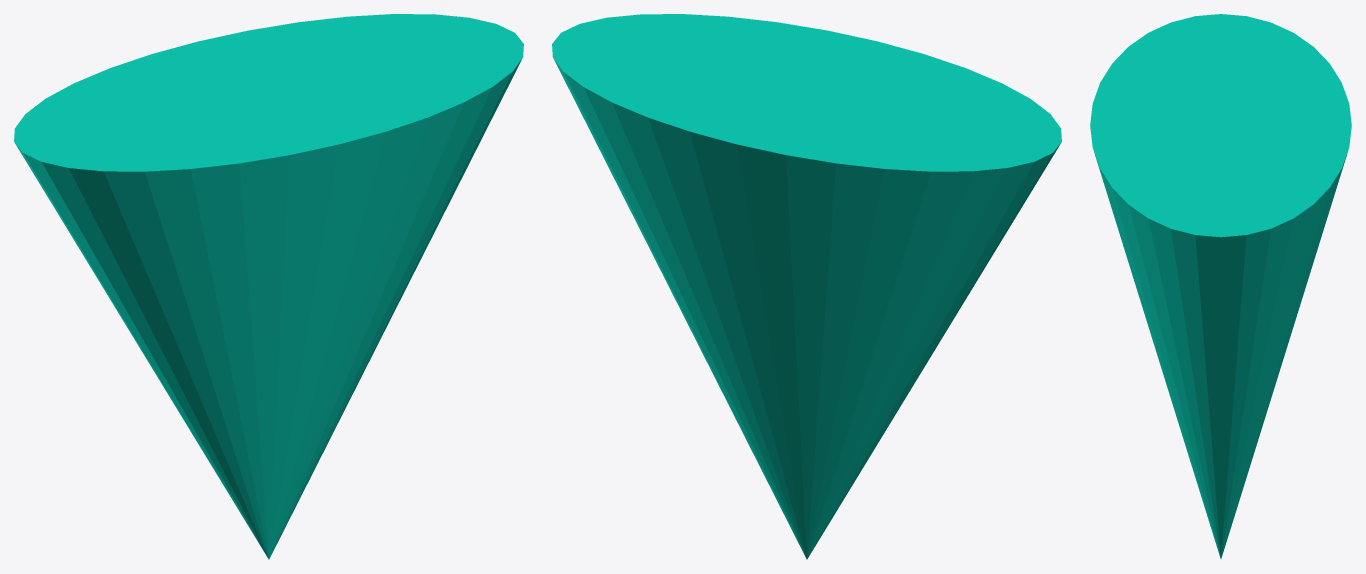
File: sort.gltf
3 renders of one model, left to right at view 1: azimuth 30°, elevation 25°; view 2: azimuth 150°, elevation 25°; view 3: azimuth 270°, elevation 25°, orthographic. The views are drawn at different scales.
Parts seen in each view (by area): view 1: Cone; view 2: Cone; view 3: Cone.
Part boxes in pixels (x1=…): Cone: x1=14, y1=14, x2=523, y2=559; Cone: x1=552, y1=14, x2=1061, y2=559; Cone: x1=1090, y1=14, x2=1351, y2=558.
Bounding box in the file's own units: 0.2204 × 0.2 × 0.1092.
